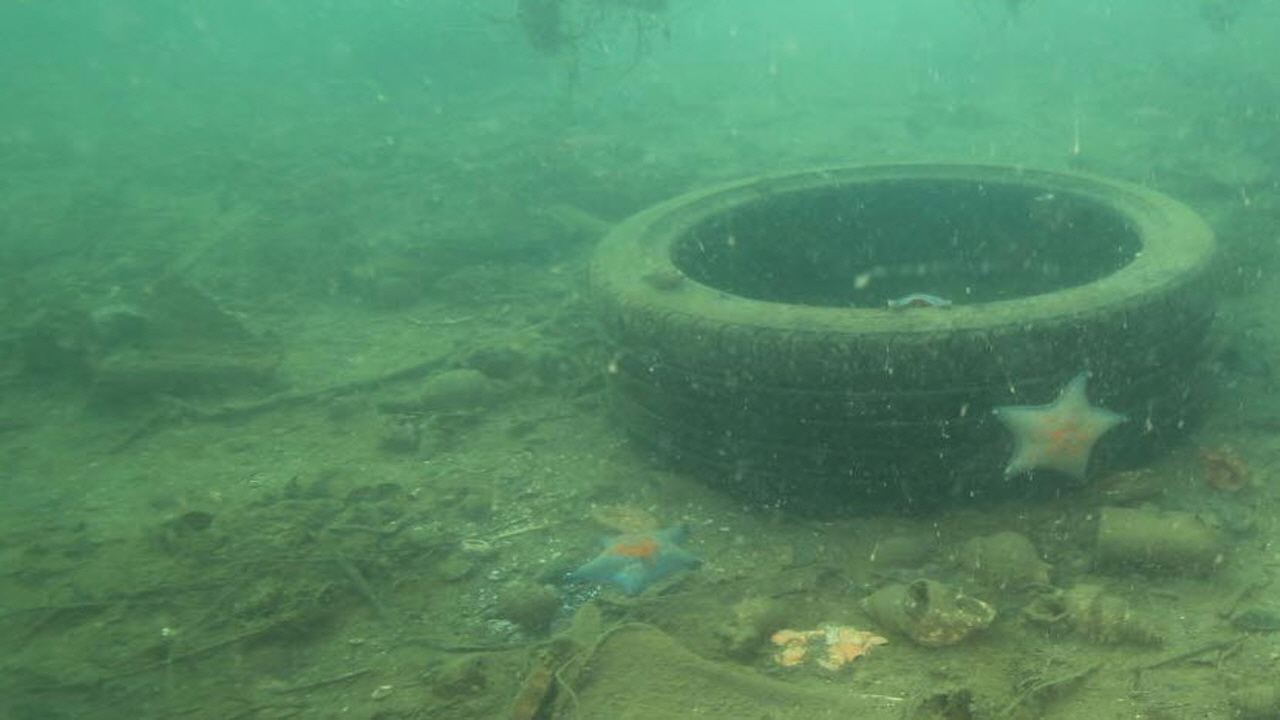tire: (589, 160, 1222, 502)
